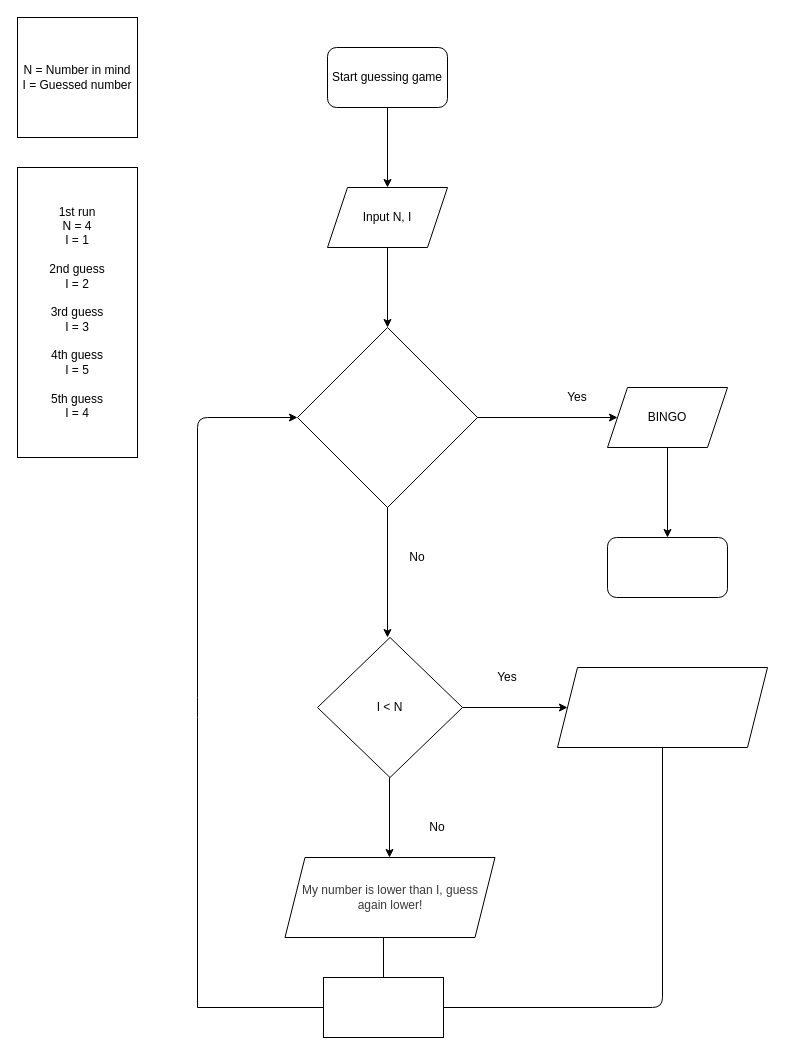
Image size: 785x1055. Some labels were removed from this diagram. Here are the shapes that lost their labels. From the top down, the centre of each, then its label:
At point (387, 417): "I = N ?".
At point (667, 567): "End of guessing game".
At point (662, 707): "My number is higher than I, guess again higher!".
At point (383, 1007): "New Input I".
